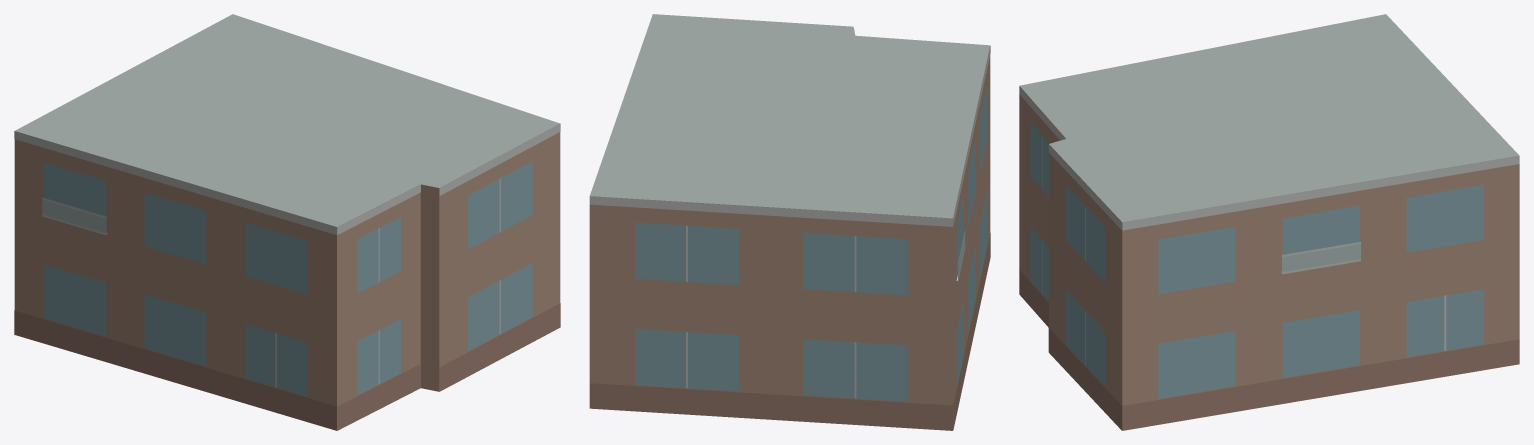
Rendered from survey-upis-32942337.glb.
3 views of the same model, side by side, from view 1: azimuth 30°, elevation 25°; view 2: azimuth 150°, elevation 25°; view 3: azimuth 270°, elevation 25° (orthographic). The views are drawn at different scales.
Parts seen in each view (by area): view 1: survey-upis-32942337.tmp; view 2: survey-upis-32942337.tmp; view 3: survey-upis-32942337.tmp.
Part boxes in pixels (x1,y1,x2,y2): survey-upis-32942337.tmp: [14, 14, 560, 430]; survey-upis-32942337.tmp: [589, 14, 990, 430]; survey-upis-32942337.tmp: [1019, 14, 1519, 430].
Size of the model in its own units: 13.07 by 6.1 by 13.27.
